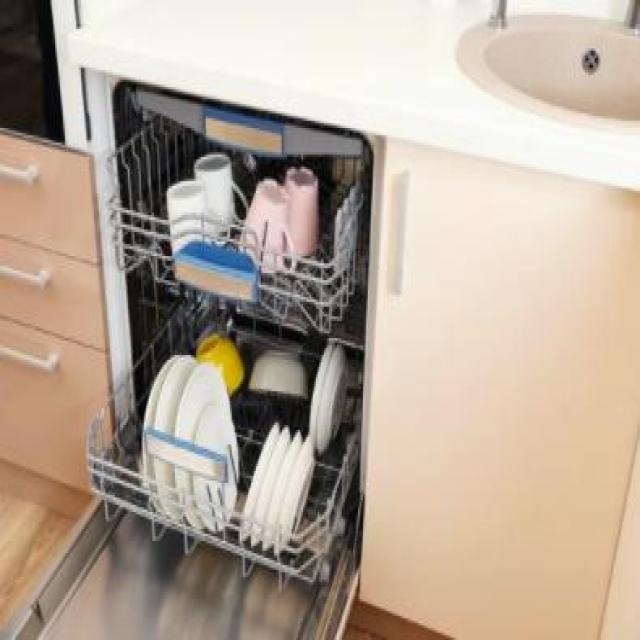dishwasher: (0, 75, 387, 637)
